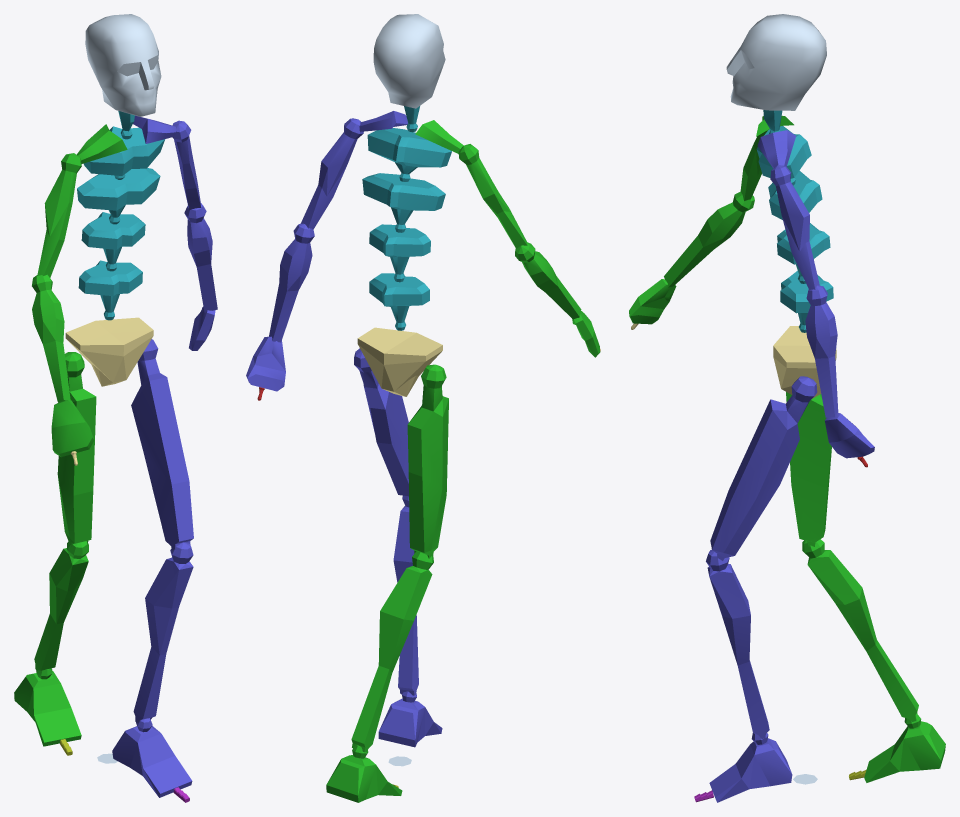
File: test_walk.glb
3 renders of one model, left to right at view 1: azimuth 30°, elevation 25°; view 2: azimuth 150°, elevation 25°; view 3: azimuth 270°, elevation 25°, orthographic. The views are drawn at different scales.
Parts seen in each view (by area): view 1: Bip001 L Thigh, Bip001 Head, Bip001 L Calf, Bip001 R Thigh, Bip001 Pelvis, Bip001 L Foot, Bip001 R Calf, Bip001 R Foot, Bip001 R Forearm, Bip001 Spine2, Bip001 R UpperArm, Bip001 Spine1 (+8 smaller); view 2: Bip001 R Thigh, Bip001 Head, Bip001 R Calf, Bip001 Pelvis, Bip001 L Thigh, Bip001 Spine2, Bip001 Spine3, Bip001 L Forearm, Bip001 R Foot, Bip001 L UpperArm, Bip001 L Calf, Bip001 L Foot (+7 smaller); view 3: Bip001 Head, Bip001 L Thigh, Bip001 R Calf, Bip001 R Thigh, Bip001 L Calf, Bip001 L Foot, Bip001 R Foot, Bip001 L Forearm, Bip001 L UpperArm, Bip001 R Forearm, Bip001 Pelvis, Bip001 L Hand (+7 smaller).
Part boxes in pixels (<box>): Bip001 L Thigh: <box>131,339,193,550</box>; Bip001 Head: <box>85,14,161,116</box>; Bip001 L Calf: <box>133,542,193,722</box>; Bip001 R Thigh: <box>57,352,96,546</box>; Bip001 Pelvis: <box>65,317,153,386</box>; Bip001 L Foot: <box>112,718,192,797</box>; Bip001 R Calf: <box>34,541,88,670</box>; Bip001 R Foot: <box>14,668,81,746</box>; Bip001 R Forearm: <box>32,274,70,402</box>; Bip001 Spine2: <box>77,168,160,224</box>; Bip001 R UpperArm: <box>37,153,81,277</box>; Bip001 Spine1: <box>81,212,145,271</box>; Bip001 R Thigh: <box>407,364,448,558</box>; Bip001 Head: <box>373,14,445,108</box>; Bip001 R Calf: <box>351,551,433,752</box>; Bip001 Pelvis: <box>357,327,442,396</box>; Bip001 L Thigh: <box>354,348,408,496</box>; Bip001 Spine2: <box>362,173,445,232</box>; Bip001 Spine3: <box>367,128,451,181</box>; Bip001 L Forearm: <box>269,223,314,342</box>; Bip001 R Foot: <box>326,745,402,802</box>; Bip001 L UpperArm: <box>301,118,363,229</box>; Bip001 L Calf: <box>393,495,418,695</box>; Bip001 L Foot: <box>378,691,442,747</box>; Bip001 Head: <box>726,14,826,110</box>; Bip001 L Thigh: <box>710,376,817,560</box>; Bip001 R Calf: <box>802,539,918,721</box>; Bip001 R Thigh: <box>786,392,831,546</box>; Bip001 L Calf: <box>706,549,769,738</box>; Bip001 L Foot: <box>709,732,792,802</box>; Bip001 R Foot: <box>864,713,945,782</box>; Bip001 L Forearm: <box>805,285,838,417</box>; Bip001 L UpperArm: <box>770,165,819,289</box>; Bip001 R Forearm: <box>664,191,754,287</box>; Bip001 Pelvis: <box>773,326,836,398</box>; Bip001 L Hand: <box>825,412,874,458</box>.
Size of the model in its own units: 0.0168 by 0.0477 by 0.0178.
